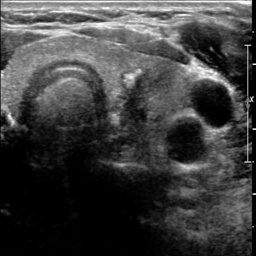mass: (122, 71, 148, 103)
